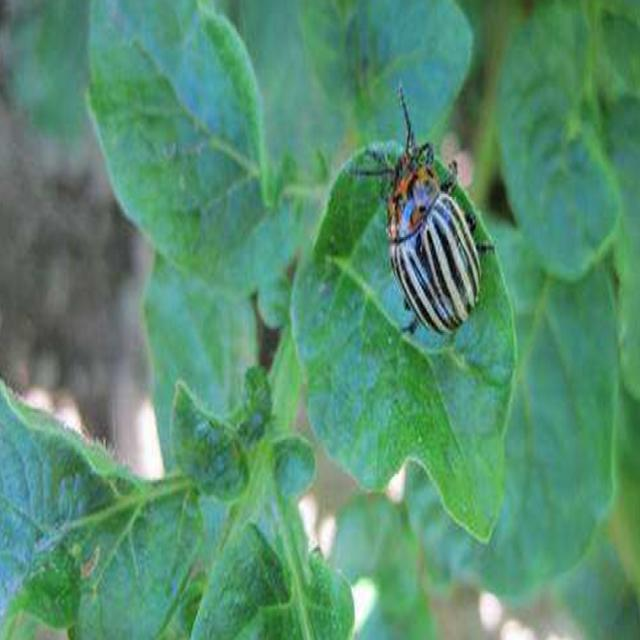ShuCaiHuaBanChong-Grown-: (367, 131, 491, 352)
